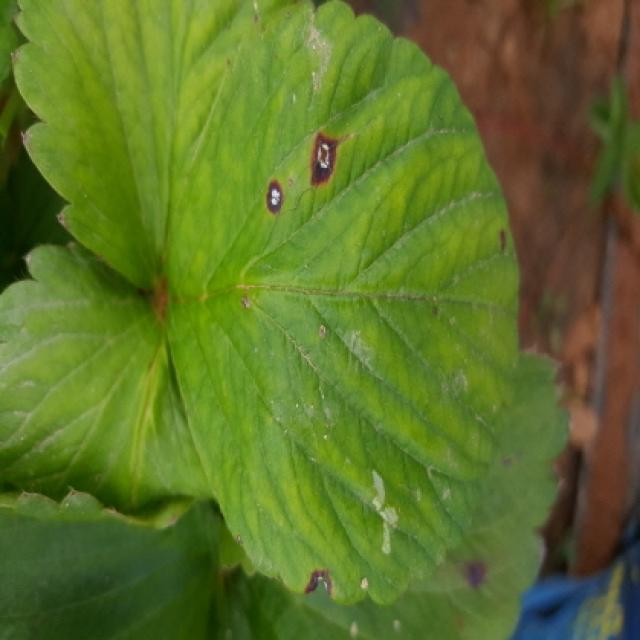Leaf Spot: (162, 0, 521, 605), (223, 351, 573, 638)
